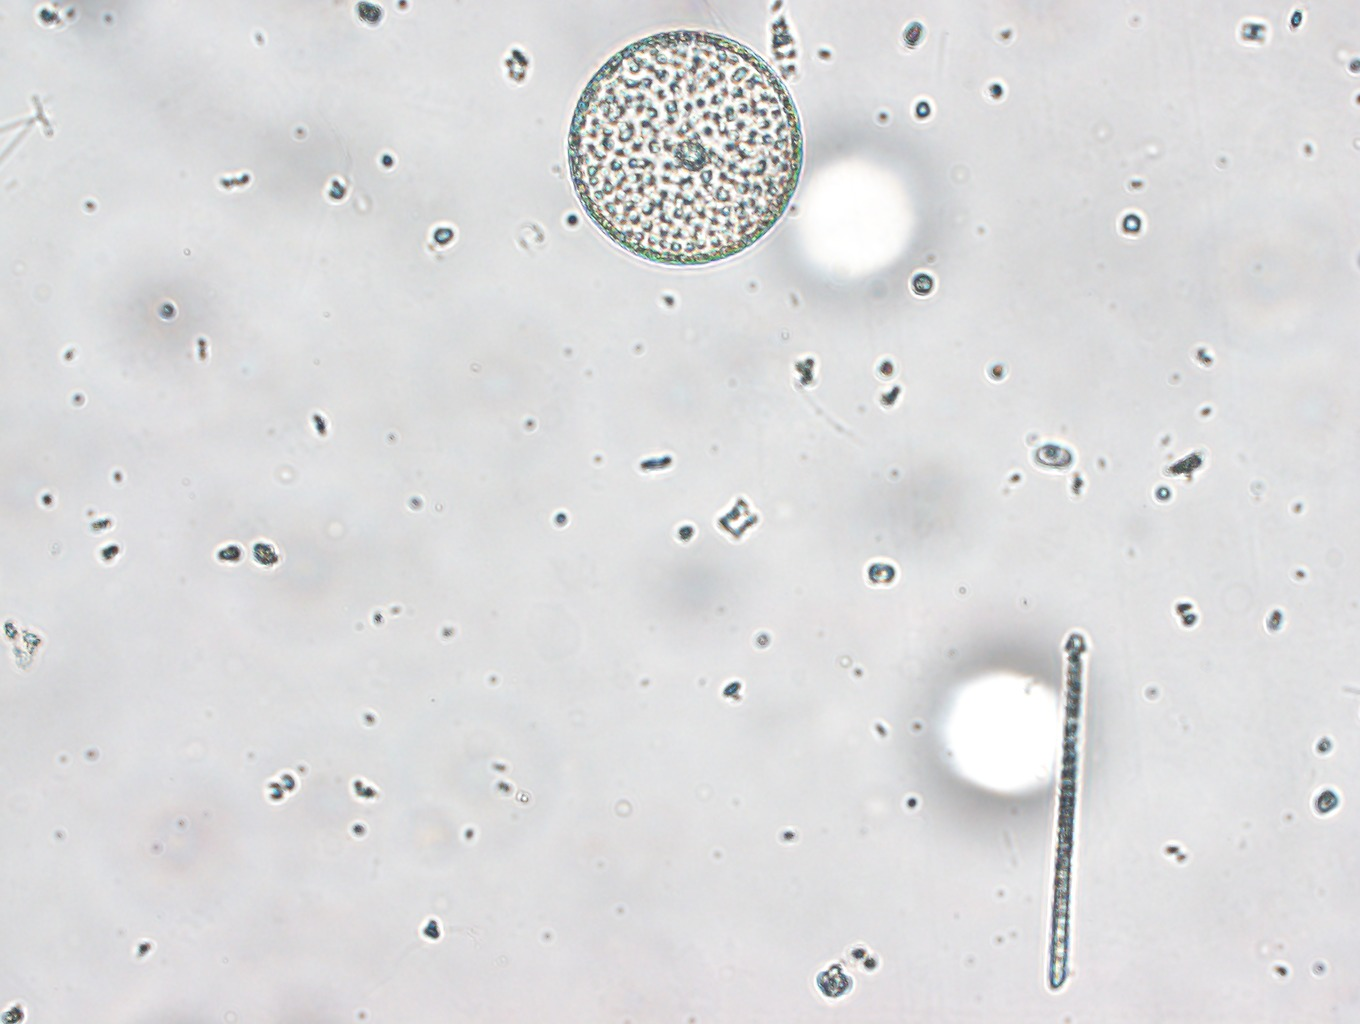coscinodiscus: (559, 27, 816, 272)
